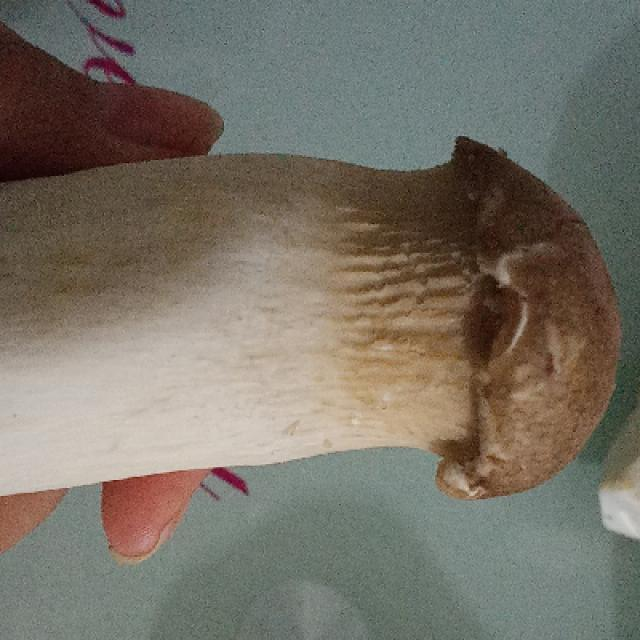Pleurotus eryngii: (0, 135, 617, 502)
